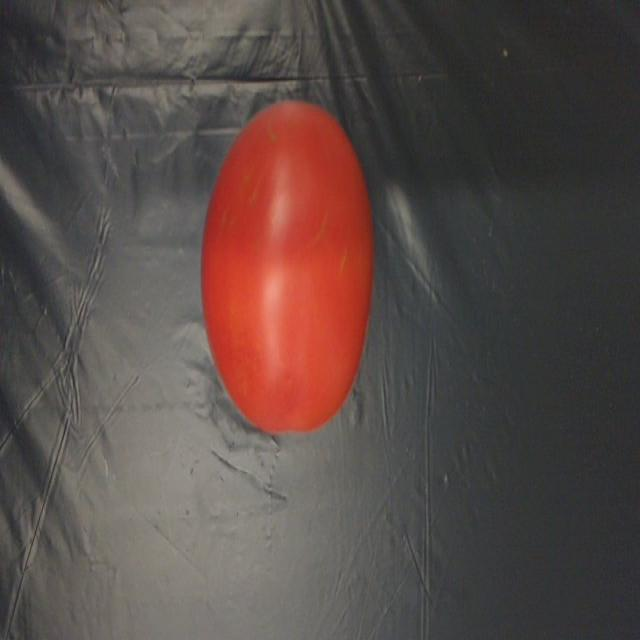kirmizi: (178, 93, 382, 450)
